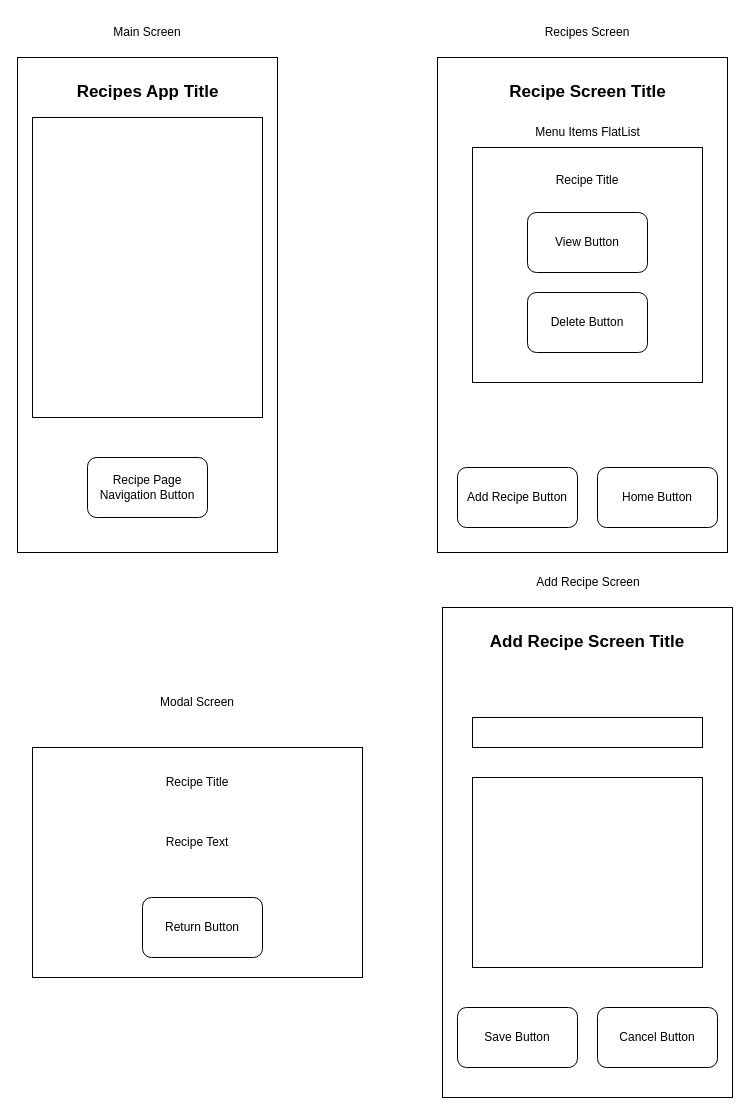
The diagram is 750 pixels wide and 1115 high, and some of its shapes have lost their labels. Each missing label, with the centre of its shape:
"Recipe Text User Input" belongs at point 587,872.
"Recipe Title User Input" belongs at point 587,732.
"Recipes Stock Image" belongs at point 147,267.
